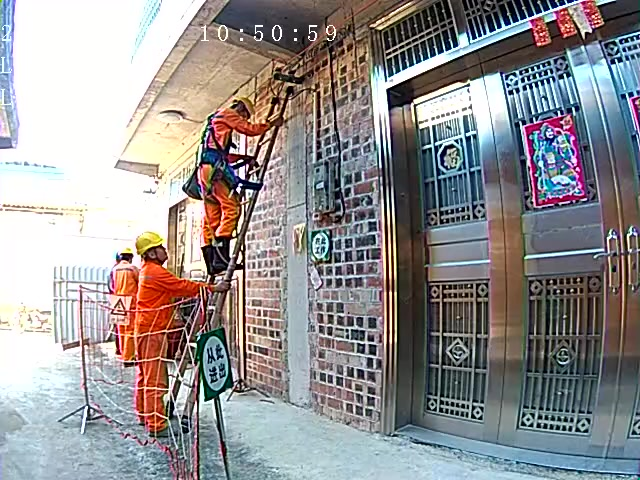halt: (136, 231, 170, 266), (231, 95, 256, 119)
hand: (215, 277, 232, 293)
inear: (145, 247, 162, 263)
intosign: (195, 328, 235, 402)
person: (189, 94, 285, 271), (135, 231, 211, 431), (108, 245, 135, 369)
safebelt: (196, 110, 265, 209)
shoe: (200, 235, 247, 276)
support: (128, 228, 233, 446)
worksign: (308, 229, 333, 264)
ydownsuit: (132, 341, 169, 429), (194, 171, 241, 238), (113, 317, 132, 361)
yupsuit: (133, 261, 216, 328), (197, 105, 271, 159), (110, 260, 137, 302)
